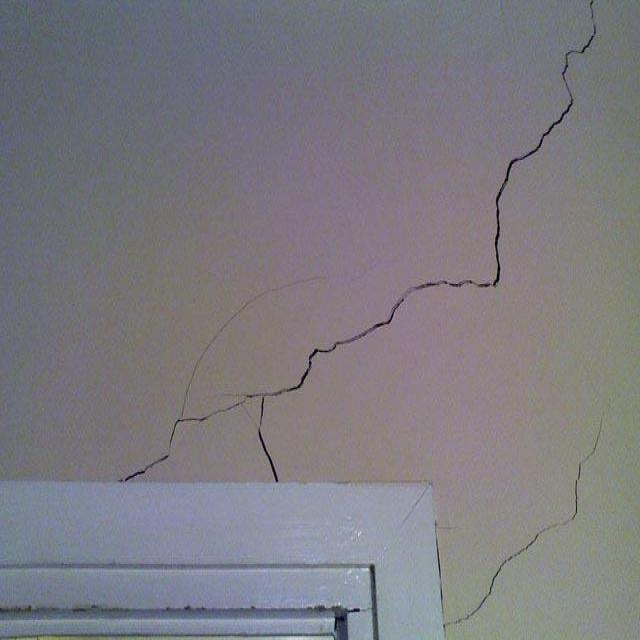crack: (221, 0, 600, 402), (441, 413, 603, 630), (177, 273, 329, 417), (117, 404, 236, 480), (255, 404, 282, 484)
